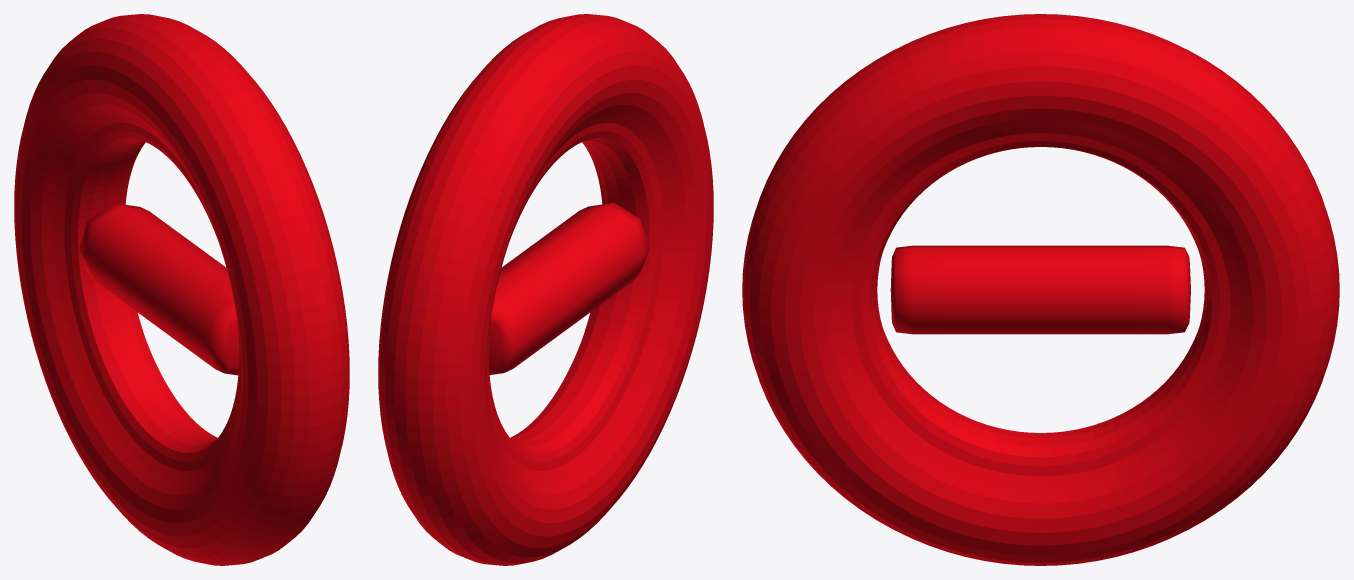
File: Inverter.fbx
3 renders of one model, left to right at view 1: azimuth 30°, elevation 25°; view 2: azimuth 150°, elevation 25°; view 3: azimuth 270°, elevation 25°, orthographic. The views are drawn at different scales.
Parts seen in each view (by area): view 1: Torus; view 2: Torus; view 3: Torus.
Part boxes in pixels (x1,y1,x2,y2): Torus: (14, 14, 349, 565); Torus: (378, 14, 713, 565); Torus: (742, 14, 1339, 565).
Bounding box in the file's own units: 16.11 × 83.3 × 83.3.
